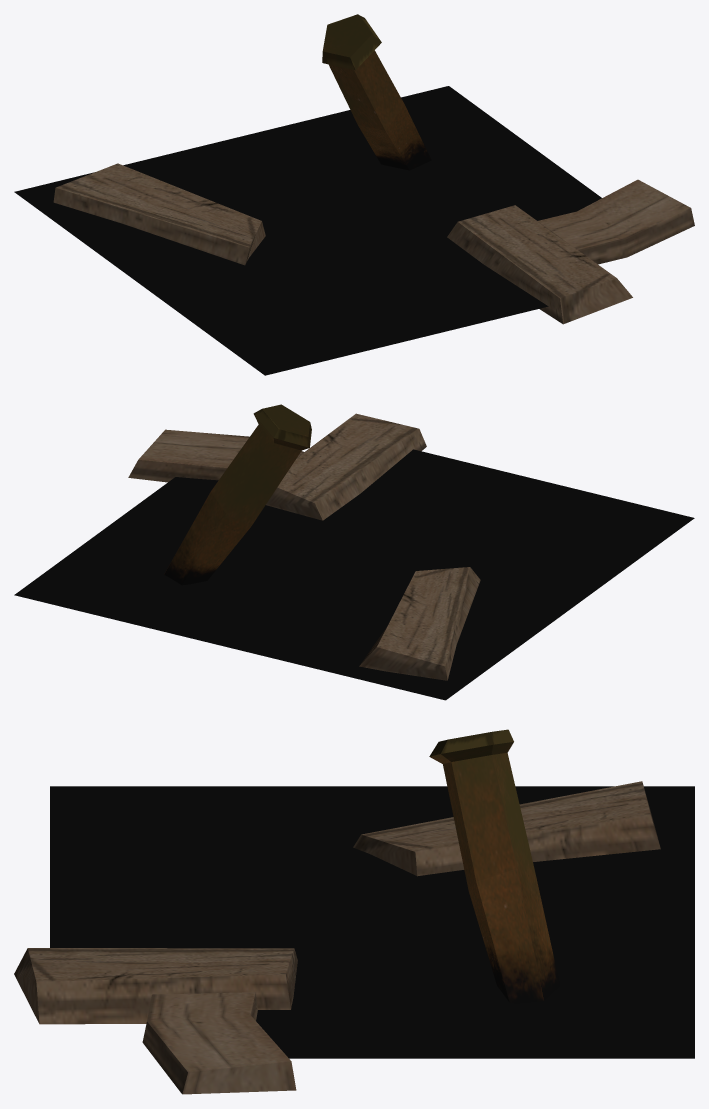
Rendered from pitFall_cornerOpen.fbx.
3 views of the same model, one above another, from view 1: azimuth 30°, elevation 25°; view 2: azimuth 150°, elevation 25°; view 3: azimuth 270°, elevation 25° (orthographic). The views are drawn at different scales.
Visible parts, largest first — view 1: pitFall_cornerOpen; view 2: pitFall_cornerOpen; view 3: pitFall_cornerOpen.
Part boxes in pixels (left/top/right/bottom): pitFall_cornerOpen: left=14, top=14, right=694, bottom=375; pitFall_cornerOpen: left=14, top=404, right=694, bottom=700; pitFall_cornerOpen: left=14, top=729, right=694, bottom=1094.
Bounding box in the file's own units: 111 × 41.38 × 106.
